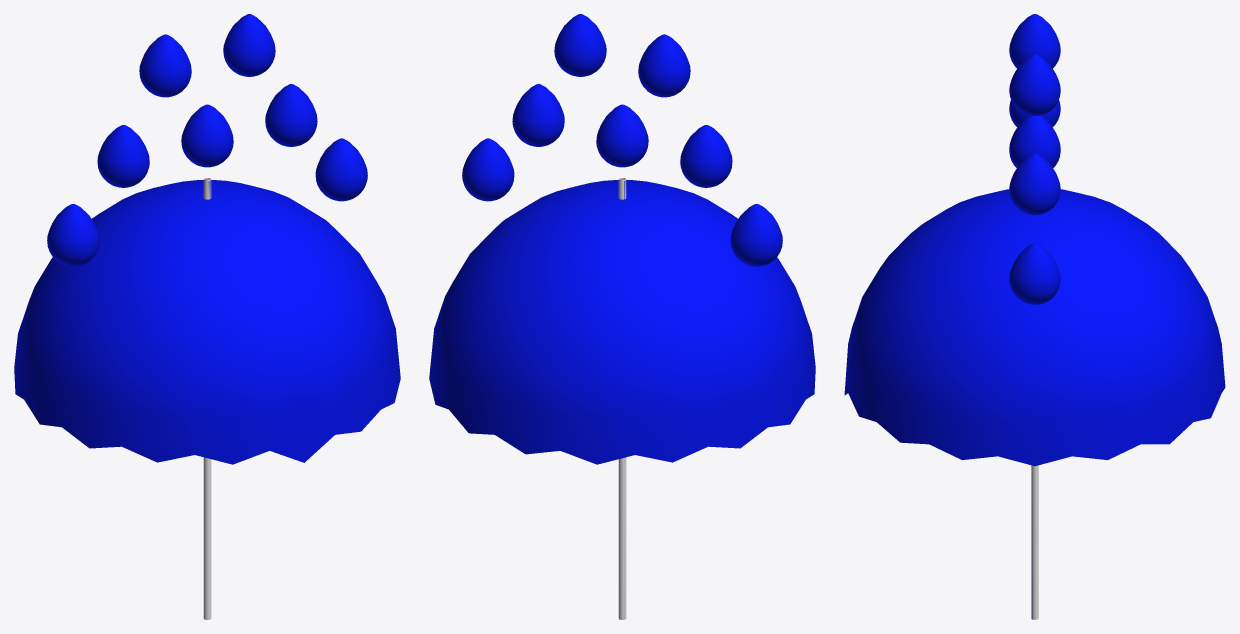
File: rain.obj
The picture shows the model from 3 angles, left to right: view 1: azimuth 30°, elevation 25°; view 2: azimuth 150°, elevation 25°; view 3: azimuth 270°, elevation 25°; orthographic projection.
Visible parts, largest first — view 1: 円柱; view 2: 円柱; view 3: 円柱.
Boxes of the visible parts, x1,y1,x2,y2 form: 円柱: [14, 14, 400, 619]; 円柱: [429, 14, 815, 619]; 円柱: [844, 14, 1225, 619].
Bounding box in the file's own units: 2 × 3.38 × 2.
Materials: 1 (1 with a texture image).
